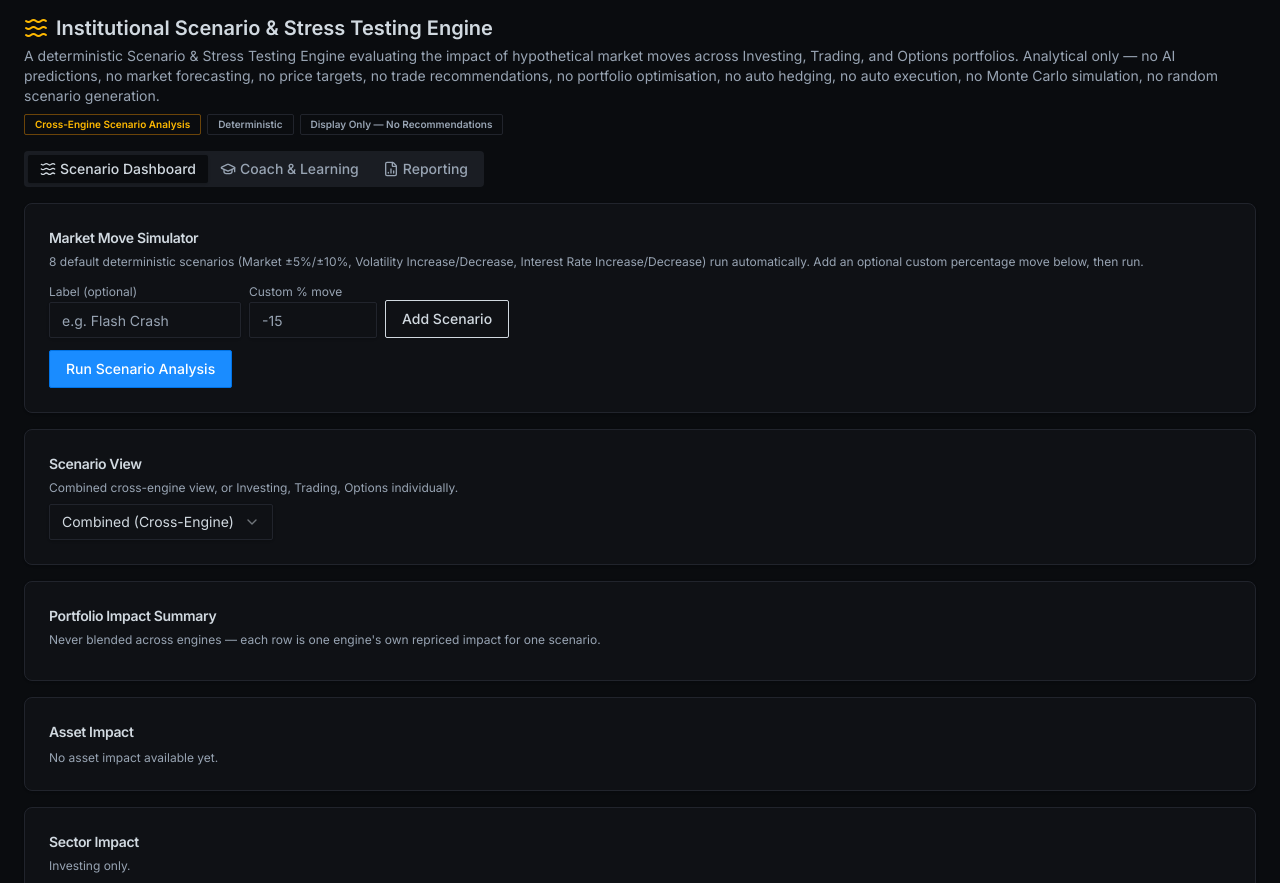
Test: ScenarioEngine › switches to the Options view and shows the reused What-If Stress Test's own Greeks/Buying Power/Capital Impact, plus interest rate scenarios
Click the dropdown with test id "scenario-view-select" at x=161, y=522, box [49,504,273,540]
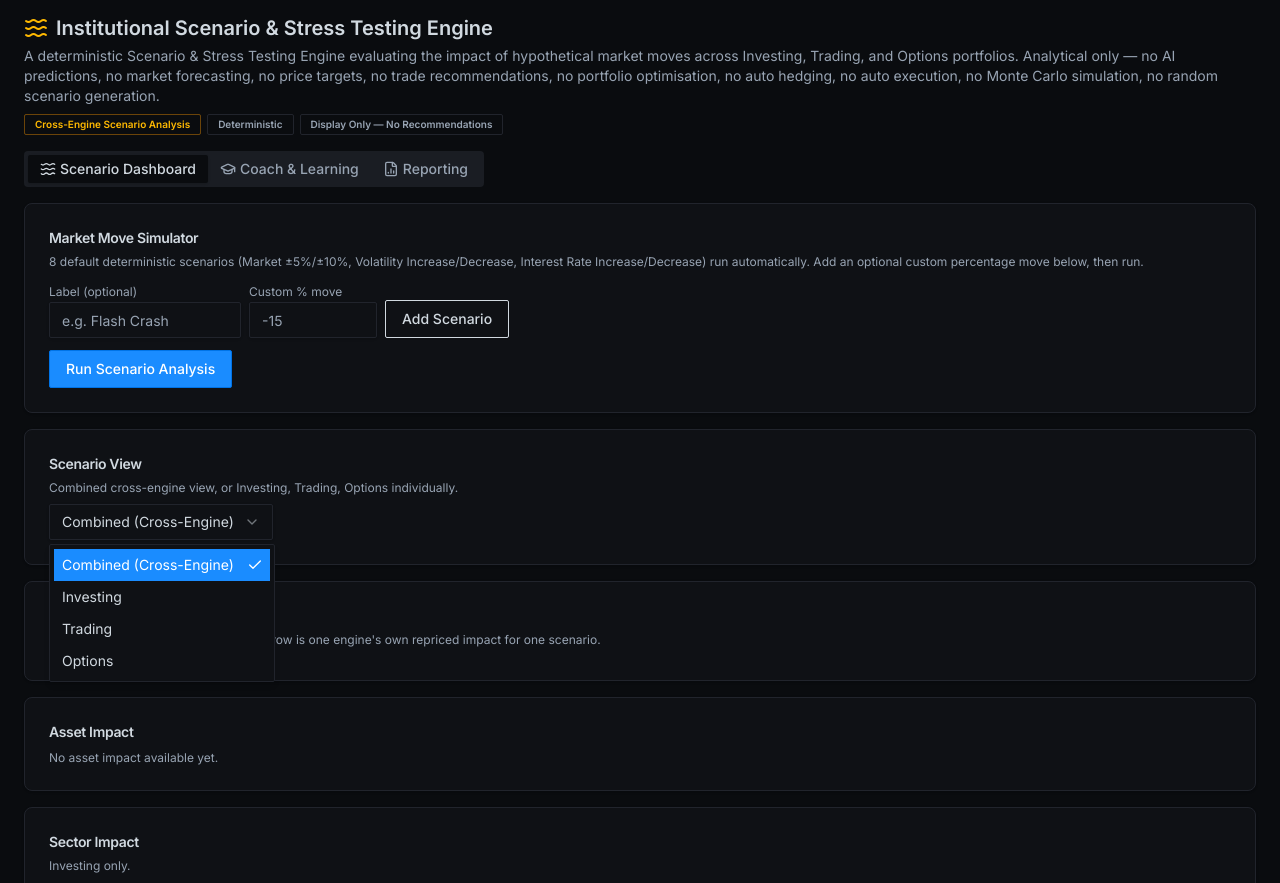
Click the option with test id "scenario-view-option-options" at x=88, y=660, box [62,652,113,669]
(page scrolled)
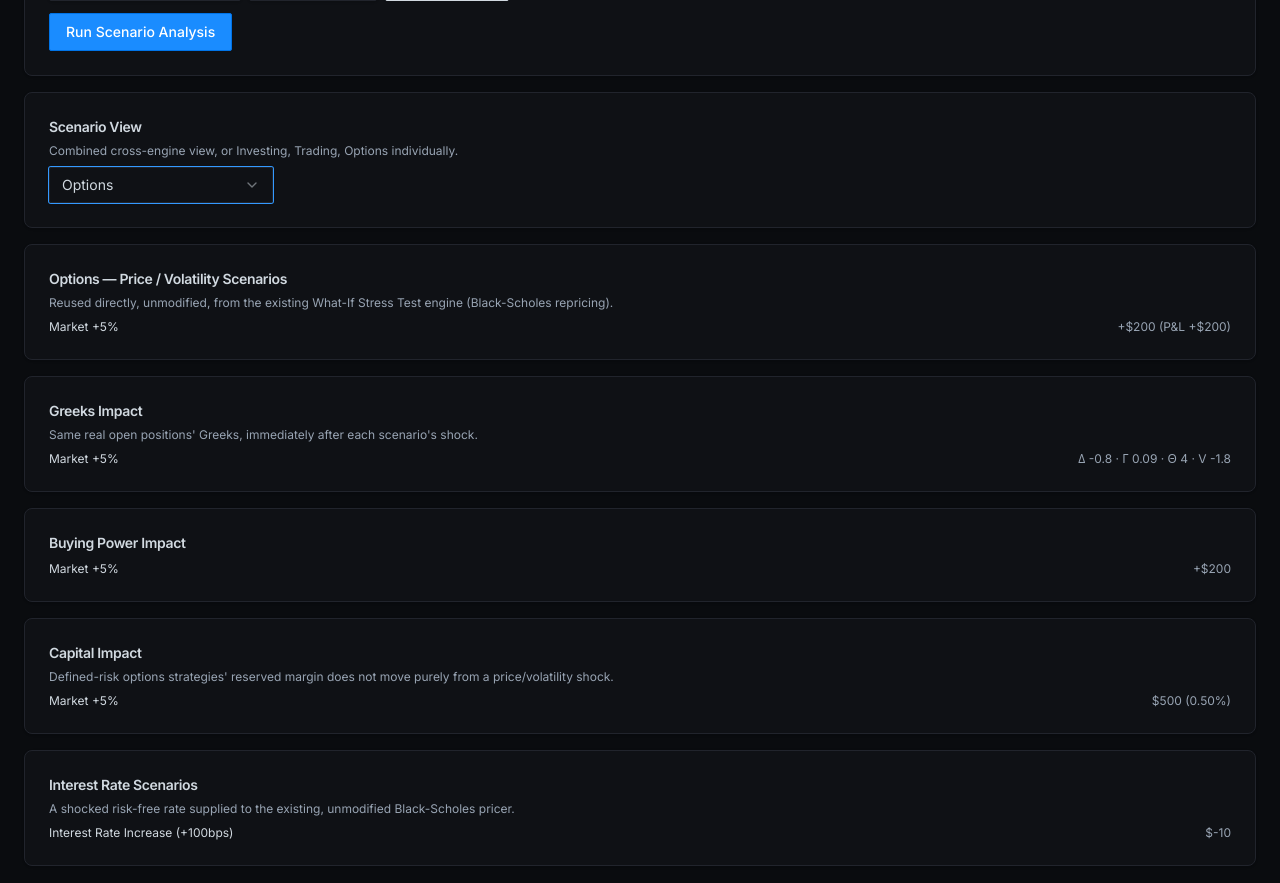
Result: the element with test id "panel-se-options" is shown
Result: the element with test id "options-price-vol-scenario-0" shows "+$200" at [1118,319,1156,334]
Result: the element with test id "options-greeks-0" shows "-0.8" at [1089,451,1112,466]
